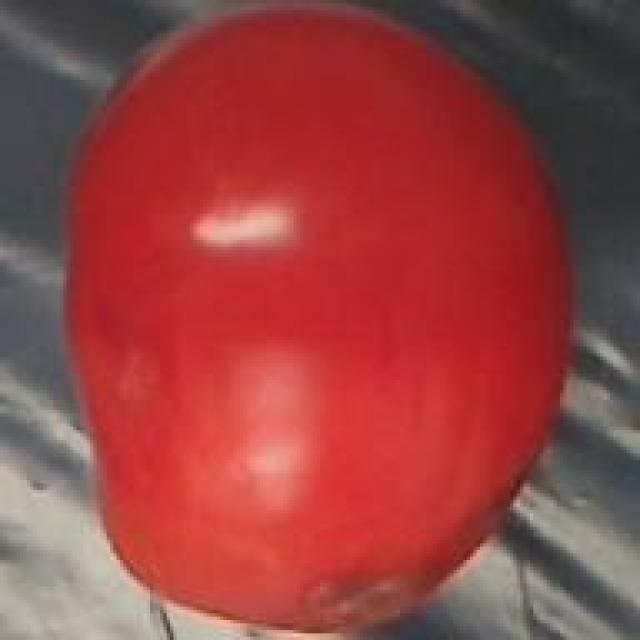overripe tomato: (57, 0, 590, 640)
